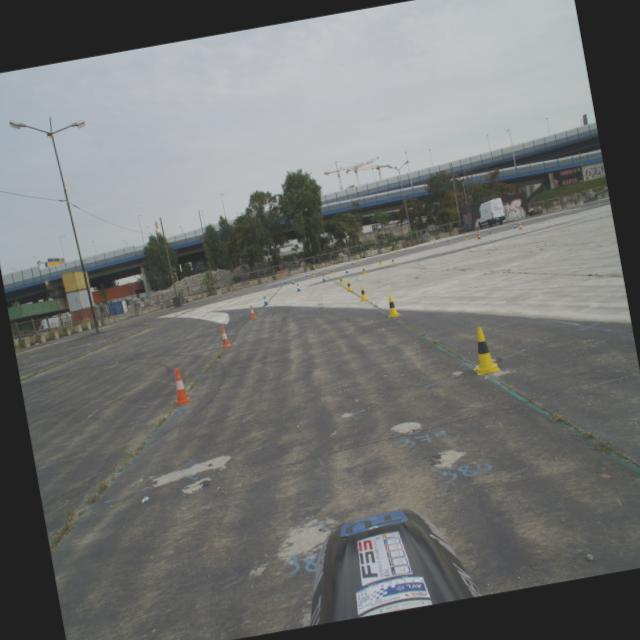blue_cone: (262, 295, 268, 305), (320, 274, 326, 282), (296, 284, 300, 292), (291, 278, 295, 284), (344, 266, 348, 272), (283, 278, 286, 284), (304, 272, 308, 276), (513, 223, 516, 228), (351, 260, 354, 264), (446, 238, 449, 242), (488, 228, 490, 233), (404, 247, 407, 250)
large_orange_cone: (516, 219, 522, 229), (476, 230, 480, 239)
orange_cone: (166, 366, 193, 406), (217, 324, 232, 348), (248, 304, 258, 319)
yellow_cone: (466, 324, 500, 376), (384, 294, 401, 318), (358, 284, 368, 301), (345, 279, 353, 291), (338, 275, 344, 285), (390, 257, 396, 264), (361, 266, 366, 274), (378, 258, 382, 264), (330, 268, 333, 274), (433, 240, 436, 246), (475, 232, 478, 238), (464, 234, 467, 239), (323, 268, 326, 272), (356, 259, 359, 263), (396, 249, 398, 254), (312, 272, 314, 276)
